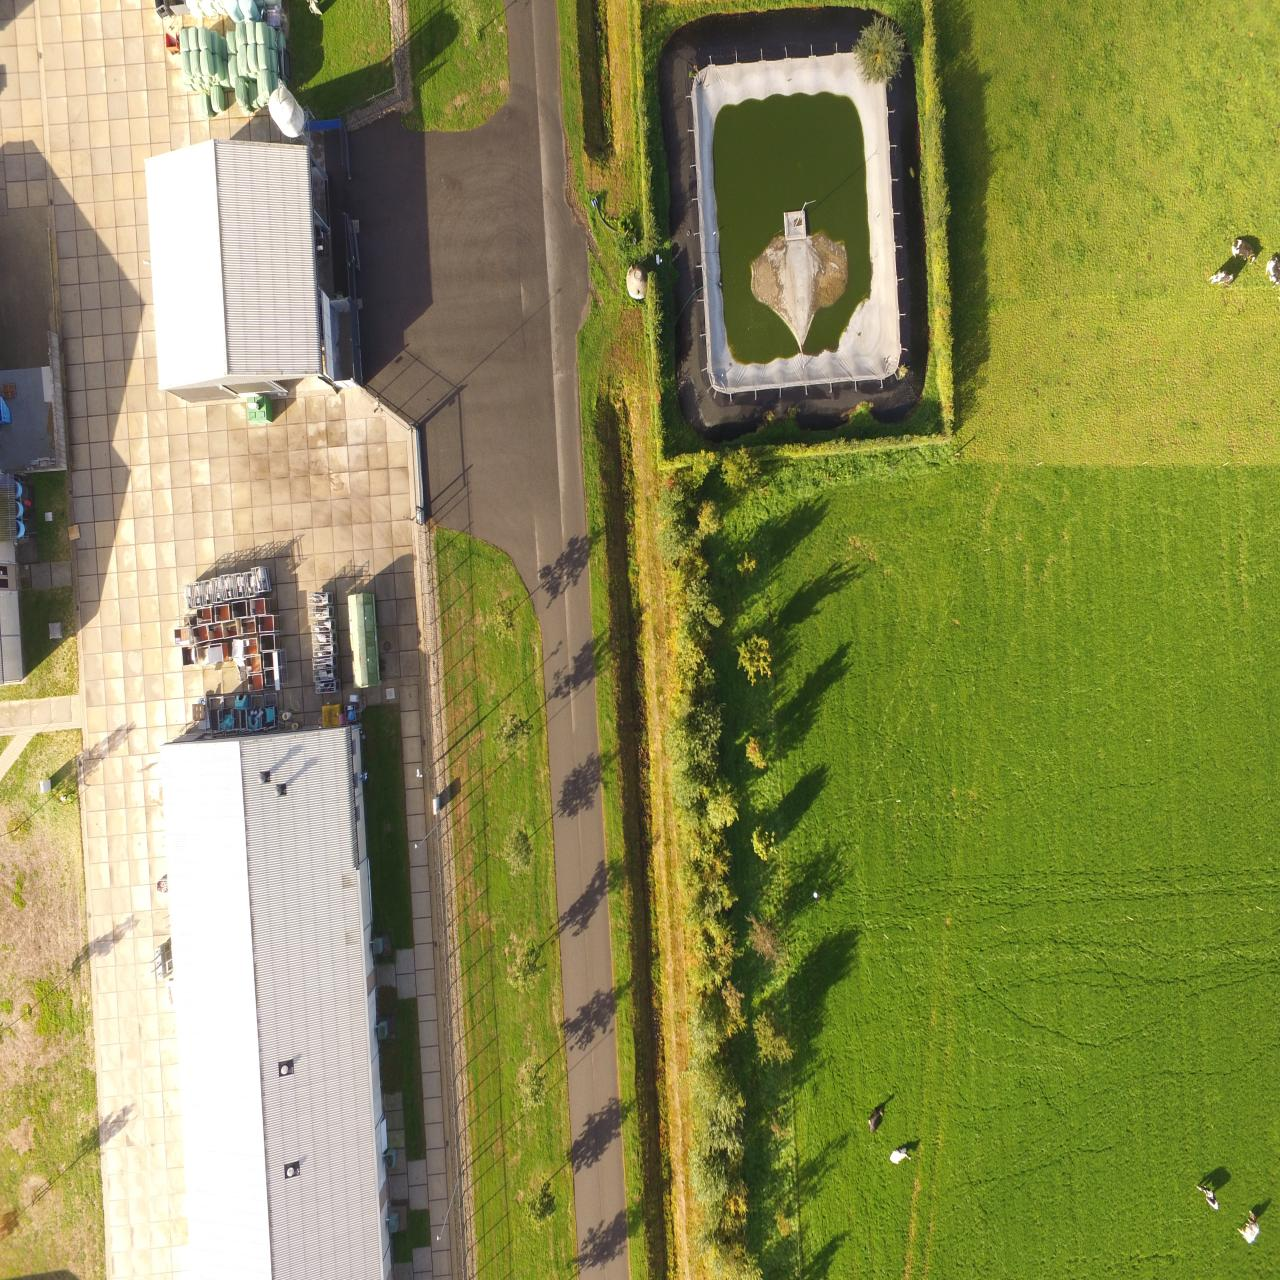cow: (1190, 1179, 1220, 1213), (1236, 1206, 1261, 1246), (1227, 238, 1260, 265), (1202, 267, 1236, 292), (1264, 248, 1280, 292), (866, 1100, 885, 1134), (886, 1144, 912, 1166)
